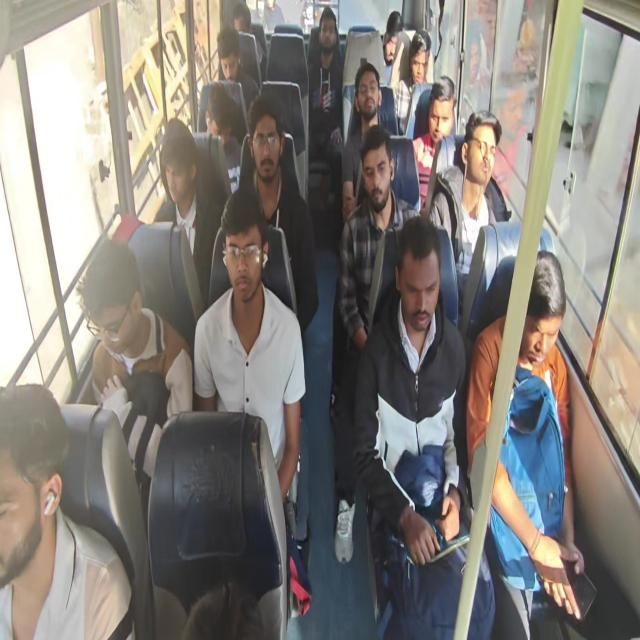person: (3, 369, 65, 604), (77, 234, 147, 358), (178, 559, 274, 640), (220, 177, 268, 330), (516, 243, 569, 371), (392, 218, 451, 332), (353, 122, 399, 212), (242, 100, 290, 184), (156, 120, 198, 213), (463, 104, 502, 188), (196, 72, 236, 149), (416, 77, 460, 134), (354, 59, 387, 120), (215, 24, 246, 83), (312, 5, 344, 60), (375, 5, 405, 62), (224, 0, 262, 40), (412, 31, 434, 82)
